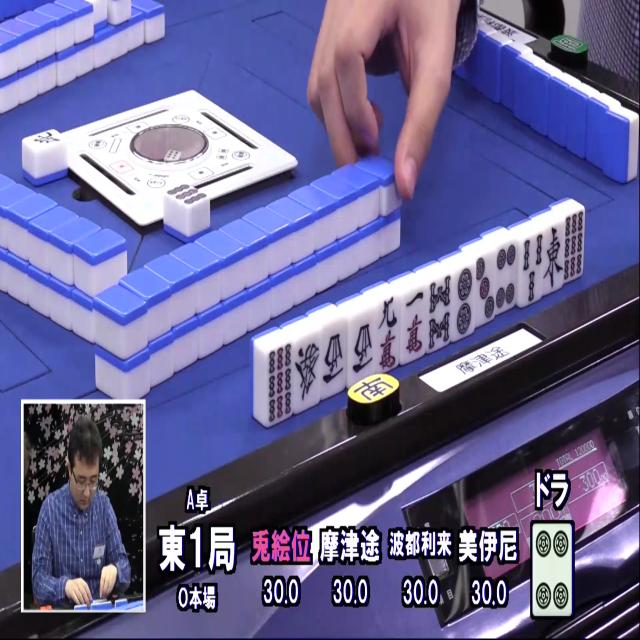1C: (402, 288, 430, 360)
2D: (453, 264, 477, 338)
3B: (519, 233, 544, 308)
3D: (474, 255, 497, 325)
4D: (533, 523, 574, 617), (494, 242, 520, 314)
8B: (427, 274, 456, 352)
9B: (264, 343, 297, 428), (562, 208, 586, 284)
9C: (374, 298, 402, 375)
EW: (543, 224, 565, 293)
GD: (294, 334, 320, 408)
WW: (347, 312, 378, 381), (319, 322, 347, 393)
